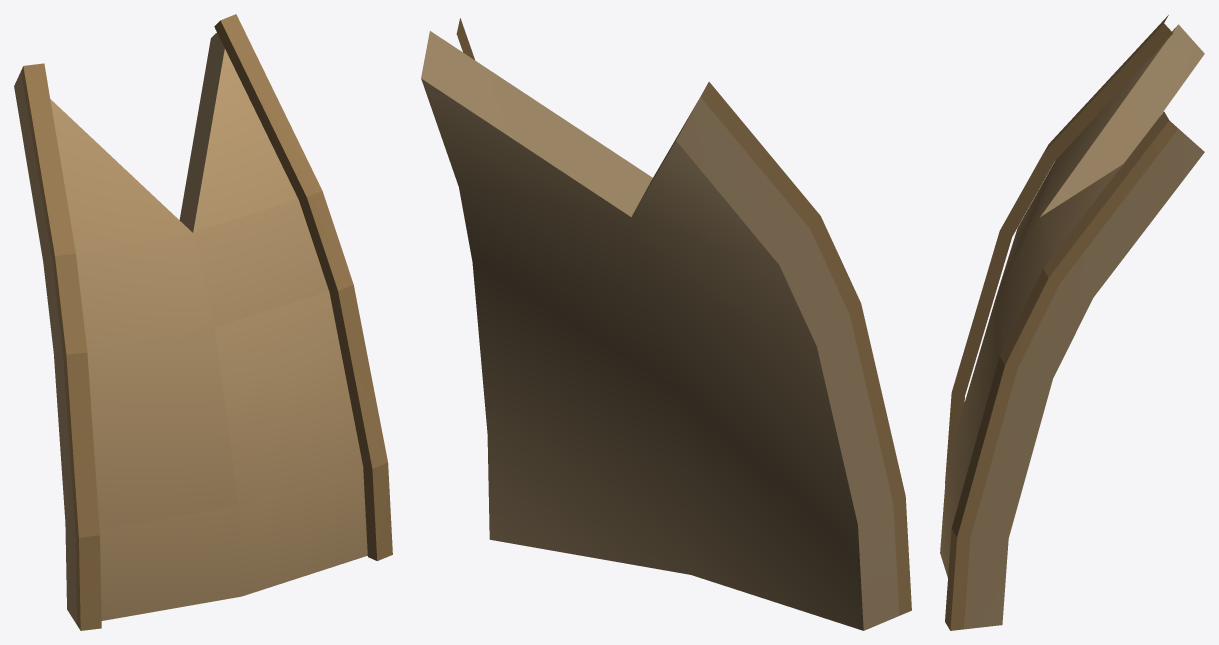
File: dome.panel_12_broken.sandstone.glb
3 renders of one model, left to right at view 1: azimuth 30°, elevation 25°; view 2: azimuth 150°, elevation 25°; view 3: azimuth 270°, elevation 25°, orthographic. The views are drawn at different scales.
Visible parts, largest first — view 1: dome_panel_12_broken_sandstone; view 2: dome_panel_12_broken_sandstone; view 3: dome_panel_12_broken_sandstone.
Part boxes in pixels (x1,y1,x2,y2): dome_panel_12_broken_sandstone: [14, 14, 392, 630]; dome_panel_12_broken_sandstone: [421, 18, 911, 630]; dome_panel_12_broken_sandstone: [940, 15, 1204, 630].
Size of what is drawn, in the model's own units: 1.85 by 2.68 by 1.33.
